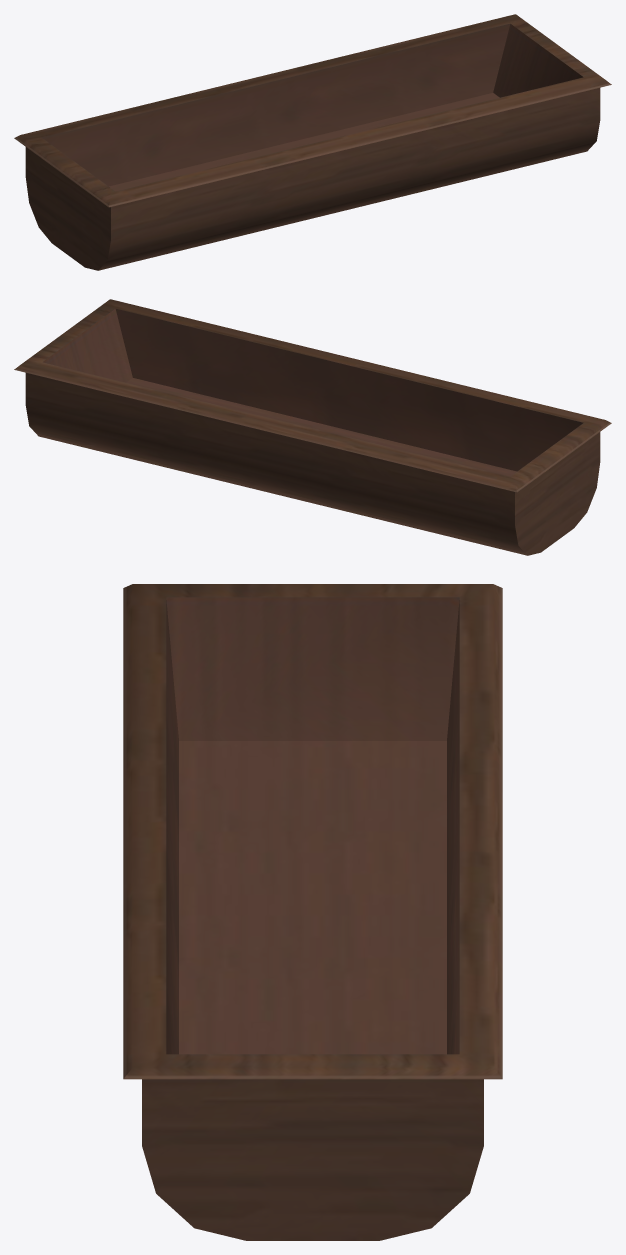
The model's file is BebedouroCavalo.fbx.
The picture shows the model from 3 angles, top to bottom: view 1: azimuth 30°, elevation 25°; view 2: azimuth 150°, elevation 25°; view 3: azimuth 270°, elevation 25°; orthographic projection. The views are drawn at different scales.
Parts seen in each view (by area): view 1: BebedouroCavalo; view 2: BebedouroCavalo; view 3: BebedouroCavalo.
Boxes of the visible parts, bbox=[...] form: BebedouroCavalo: bbox=[14, 14, 611, 270]; BebedouroCavalo: bbox=[14, 299, 611, 555]; BebedouroCavalo: bbox=[123, 584, 502, 1240].
Bounding box in the file's own units: 195 × 32.59 × 63.5.
